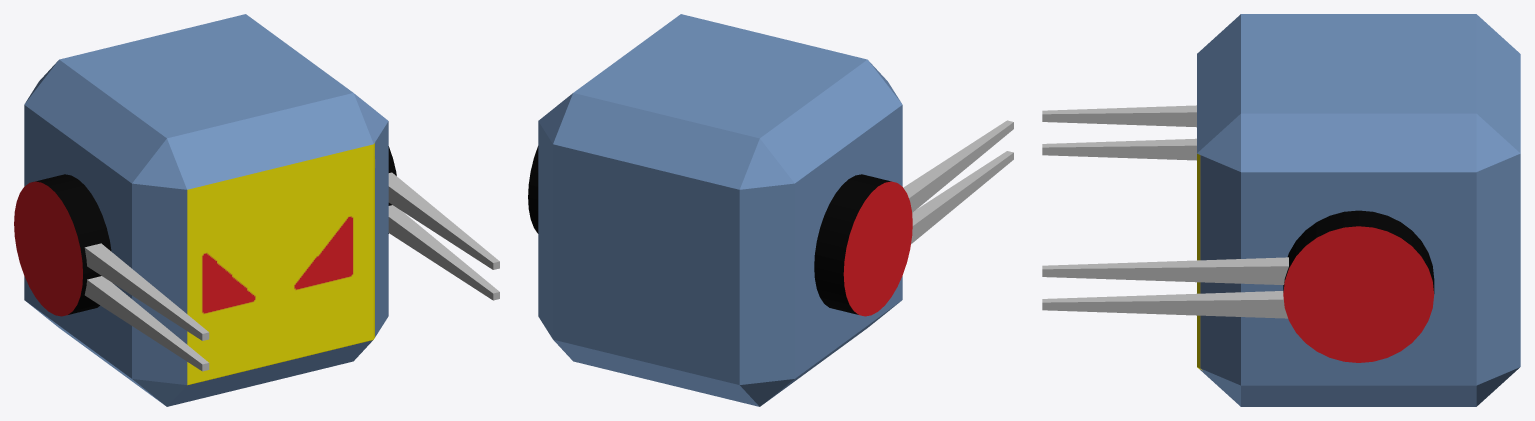
The model's file is robot.obj.
3 renders of one model, left to right at view 1: azimuth 30°, elevation 25°; view 2: azimuth 150°, elevation 25°; view 3: azimuth 270°, elevation 25°, orthographic. The views are drawn at different scales.
Visible parts, largest first — view 1: 立方体.002; view 2: 立方体.002; view 3: 立方体.002.
Boxes of the visible parts, x1=… form: 立方体.002: x1=14, y1=14, x2=499, y2=406; 立方体.002: x1=528, y1=14, x2=1013, y2=406; 立方体.002: x1=1042, y1=14, x2=1520, y2=406.
Bounding box in the file's own units: 1.01 × 0.8215 × 1.21.
1 material, 1 textured.
